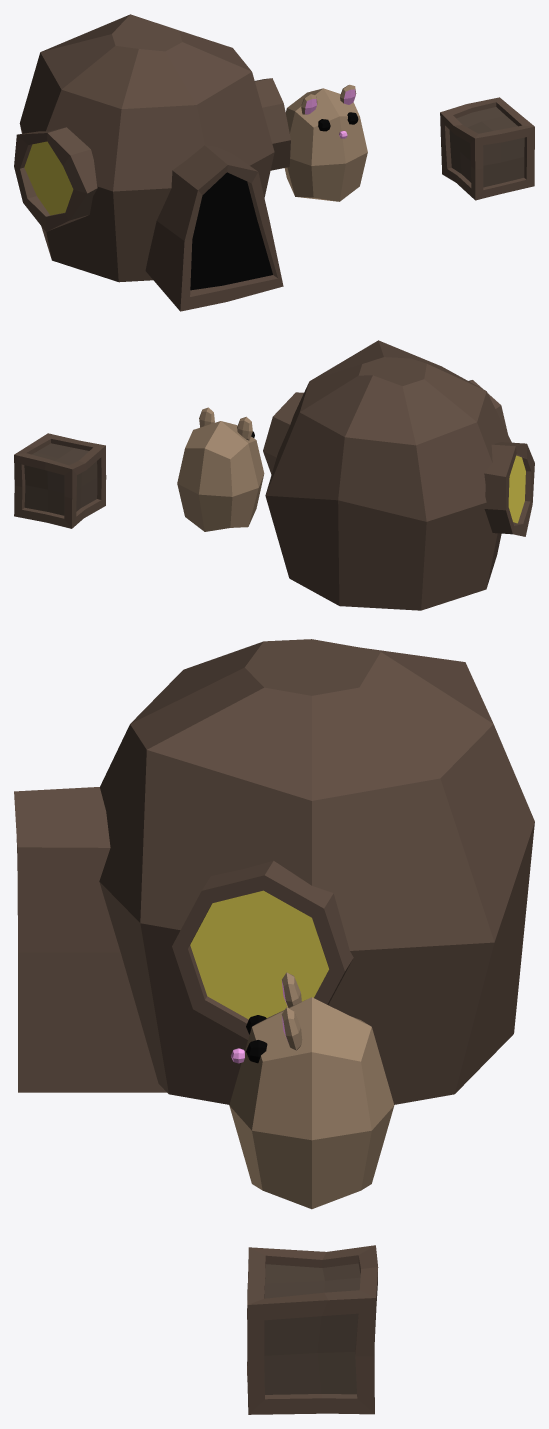
The model's file is env_concretepipe1_mesh_01_v1.glb.
3 views of the same model, one above another, from view 1: azimuth 30°, elevation 25°; view 2: azimuth 150°, elevation 25°; view 3: azimuth 270°, elevation 25° (orthographic). The views are drawn at different scales.
Parts seen in each view (by area): view 1: Cylinder, Cube.001, Cube; view 2: Cylinder, Cube, Cube.001; view 3: Cylinder, Cube, Cube.001.
Boxes of the visible parts, <box> form: Cylinder: <box>14,14,290,311</box>; Cube.001: <box>440,97,534,200</box>; Cube: <box>284,84,367,201</box>; Cylinder: <box>263,340,534,610</box>; Cube: <box>177,407,264,531</box>; Cube.001: <box>14,433,106,528</box>; Cylinder: <box>14,639,534,1104</box>; Cube: <box>229,972,394,1209</box>; Cube.001: <box>247,1245,378,1414</box>.
Bounding box in the file's own units: 8.27 × 3.76 × 4.11.
